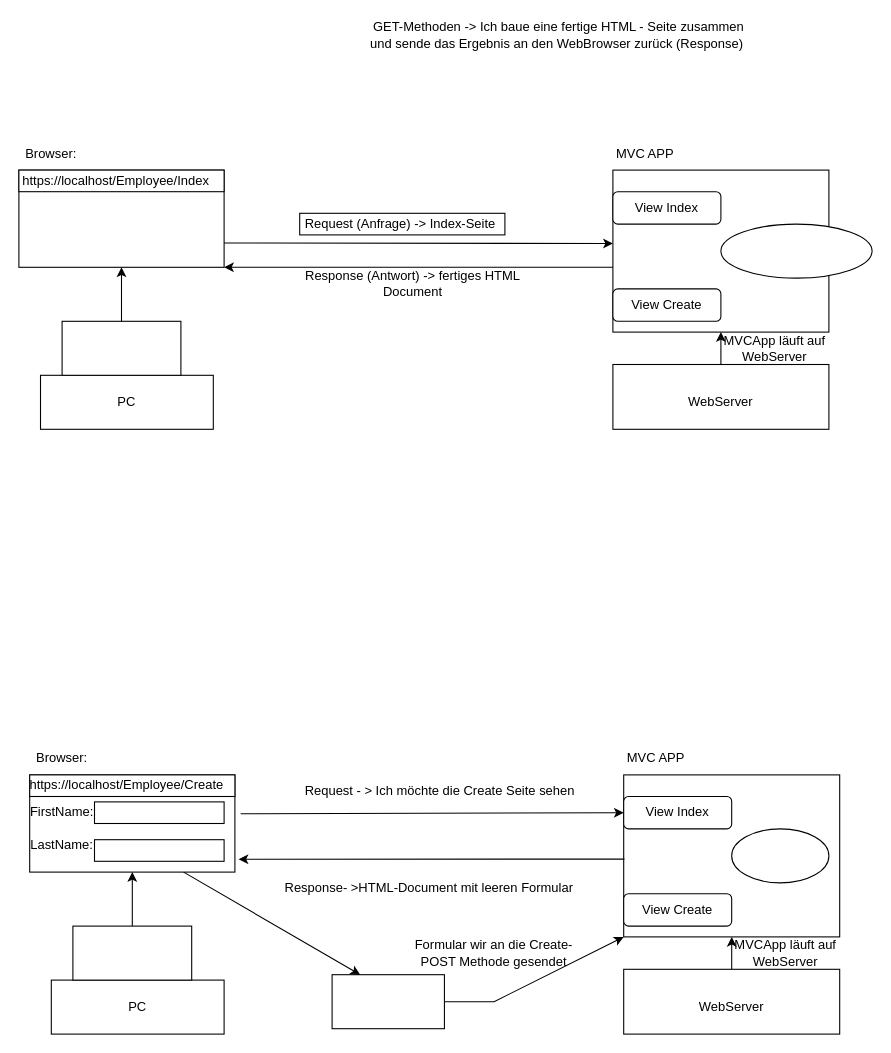
The diagram is 891 pixels wide and 1053 high, and some of its shapes have lost their labels. The shapes that lost their labels are listed below. From the top down, each one's centre as x and y in pixels, then its label:
the point at 796,250: EmployeeController -> Index-Methode
the point at 780,855: EmployeeController
the point at 387,1001: ausgefülltes Formular
